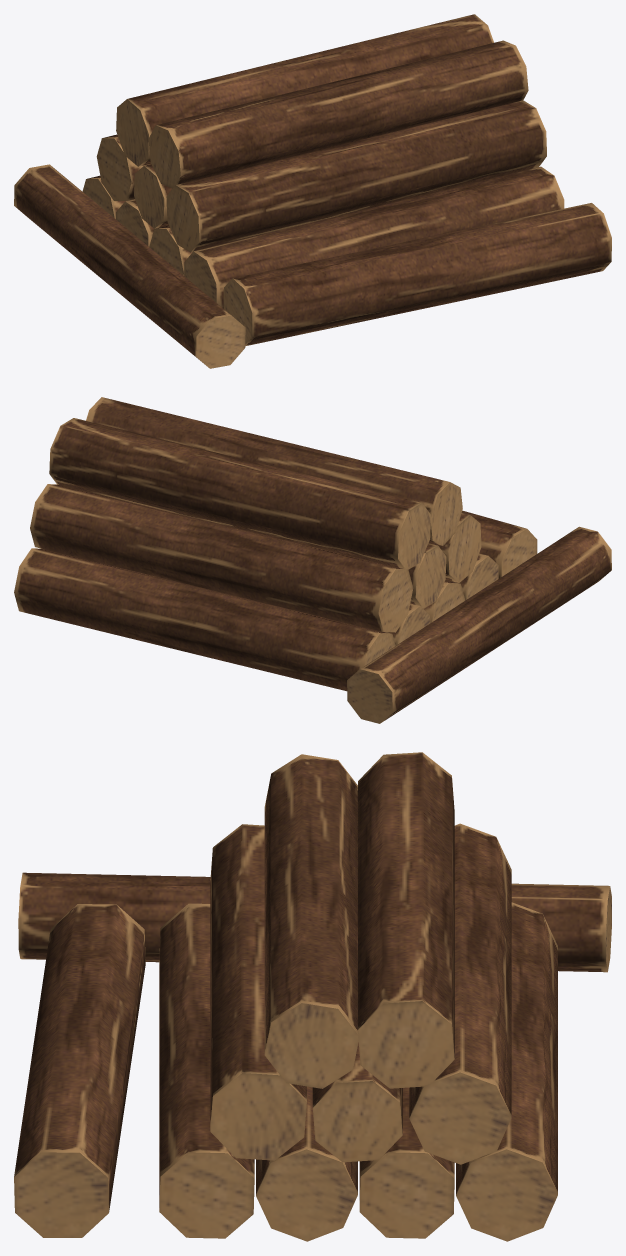
Rendered from WoodPile2.fbx.
The picture shows the model from 3 angles, top to bottom: view 1: azimuth 30°, elevation 25°; view 2: azimuth 150°, elevation 25°; view 3: azimuth 270°, elevation 25°; orthographic projection. The views are drawn at different scales.
Visible parts, largest first — view 1: WoodPile2; view 2: WoodPile2; view 3: WoodPile2.
Boxes of the visible parts, <box> form: WoodPile2: <box>14,14,611,368</box>; WoodPile2: <box>14,397,611,723</box>; WoodPile2: <box>14,752,611,1241</box>.
Bounding box in the file's own units: 131 × 49.42 × 111.
